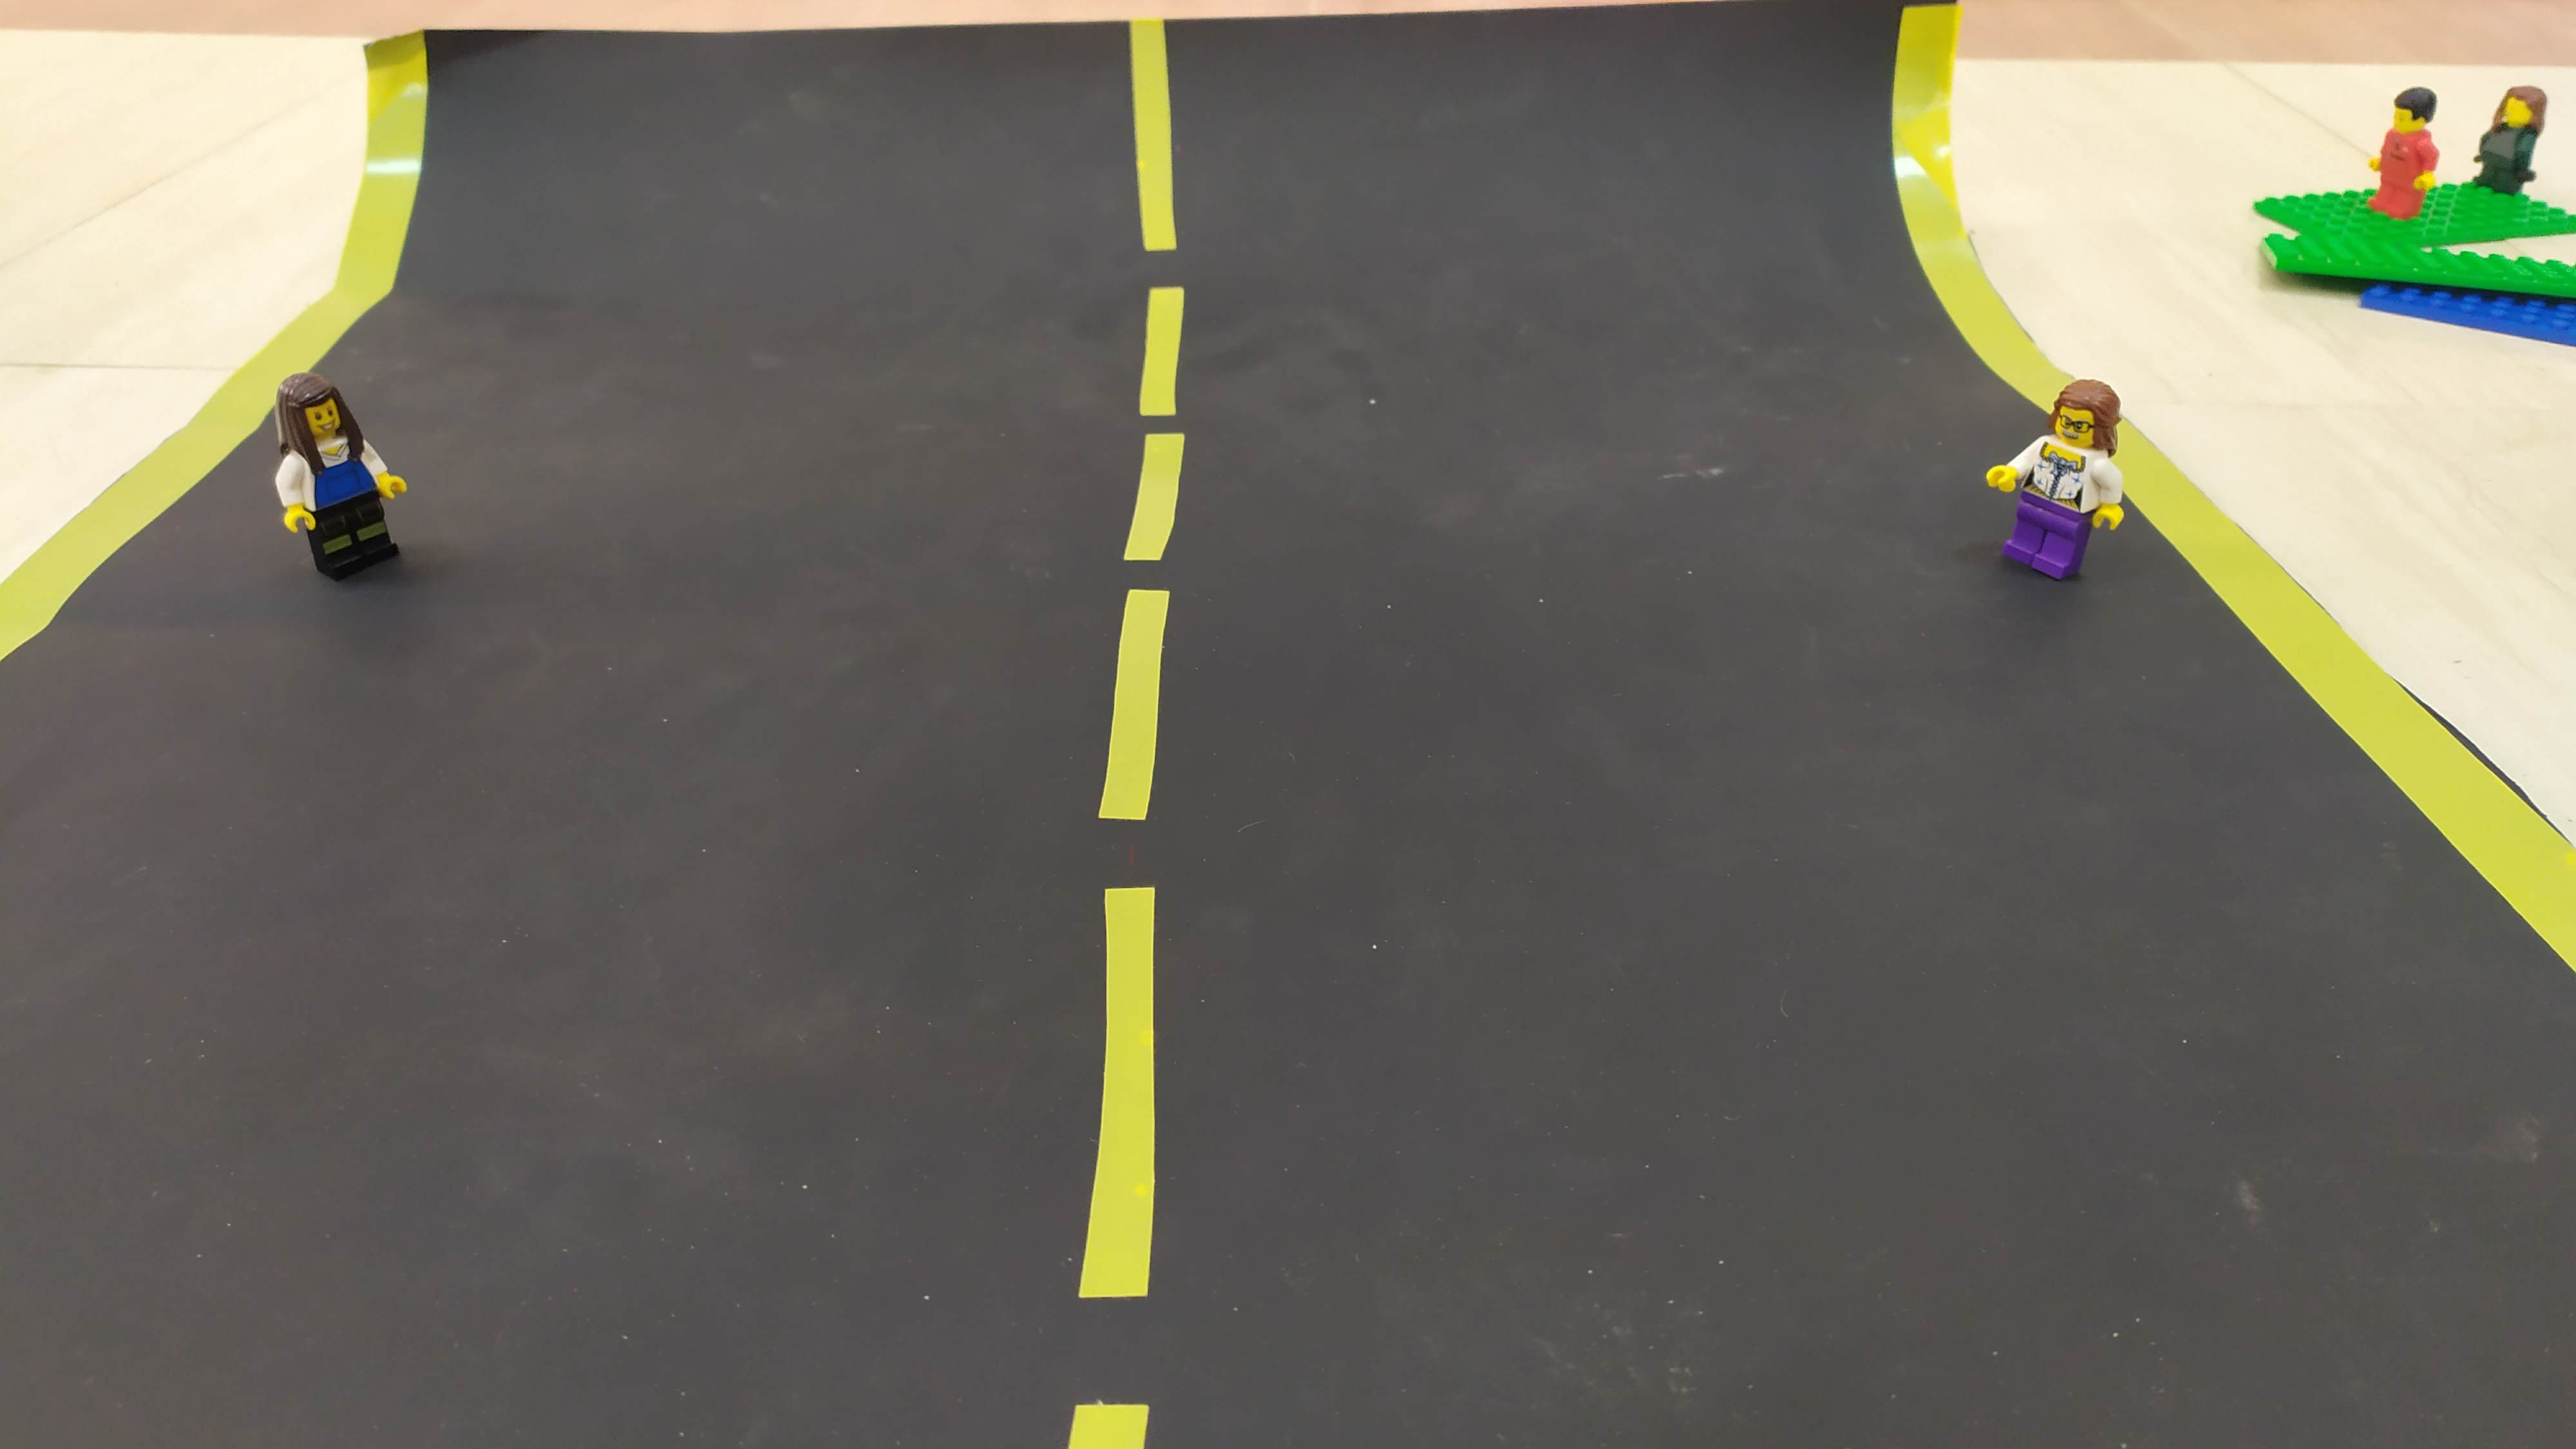Person: (1955, 396, 2154, 596), (267, 370, 415, 621)
